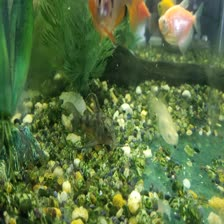Guppy: (137, 89, 181, 151)
Kiros: (62, 96, 124, 151)
Plano: (152, 3, 203, 48)
